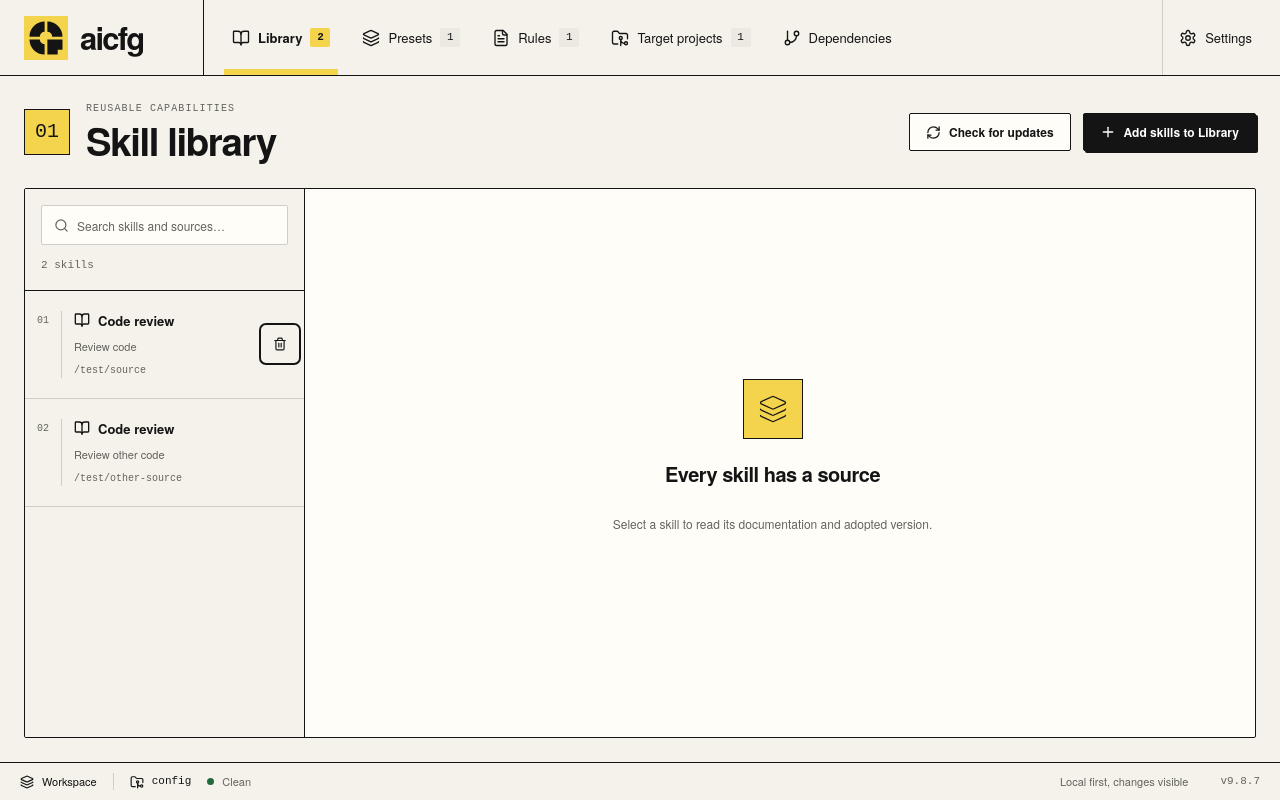
Test: Library skill confirmation › defers the request until confirmation and cancels without deleting
Click the button named "Delete Code review" at {"x": 280, "y": 344}, box [264,328,296,360]
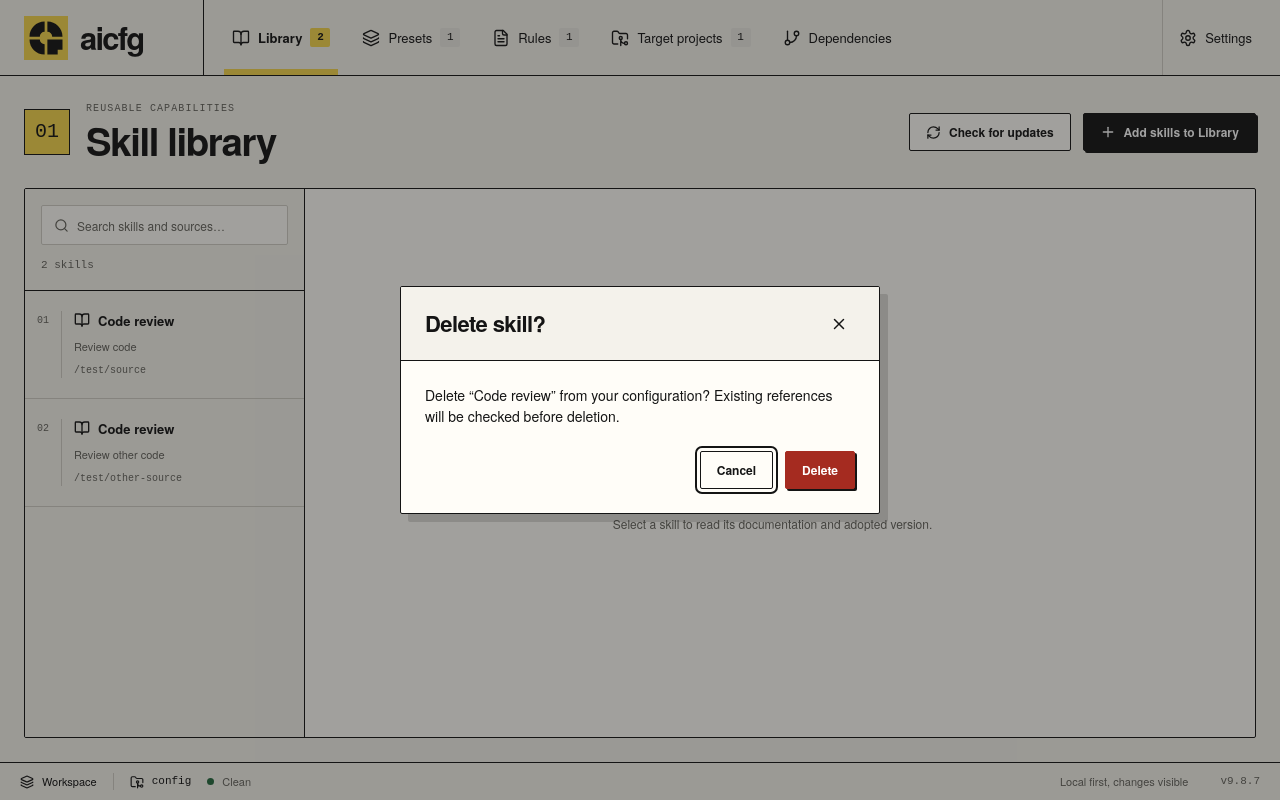
Expected: the heading "Delete skill?" is shown, [425,307,545,340]
Expected: the text "Code review" is shown, [425,385,832,426]
Click the button "Cancel" at {"x": 736, "y": 470}, box [700,451,773,489]
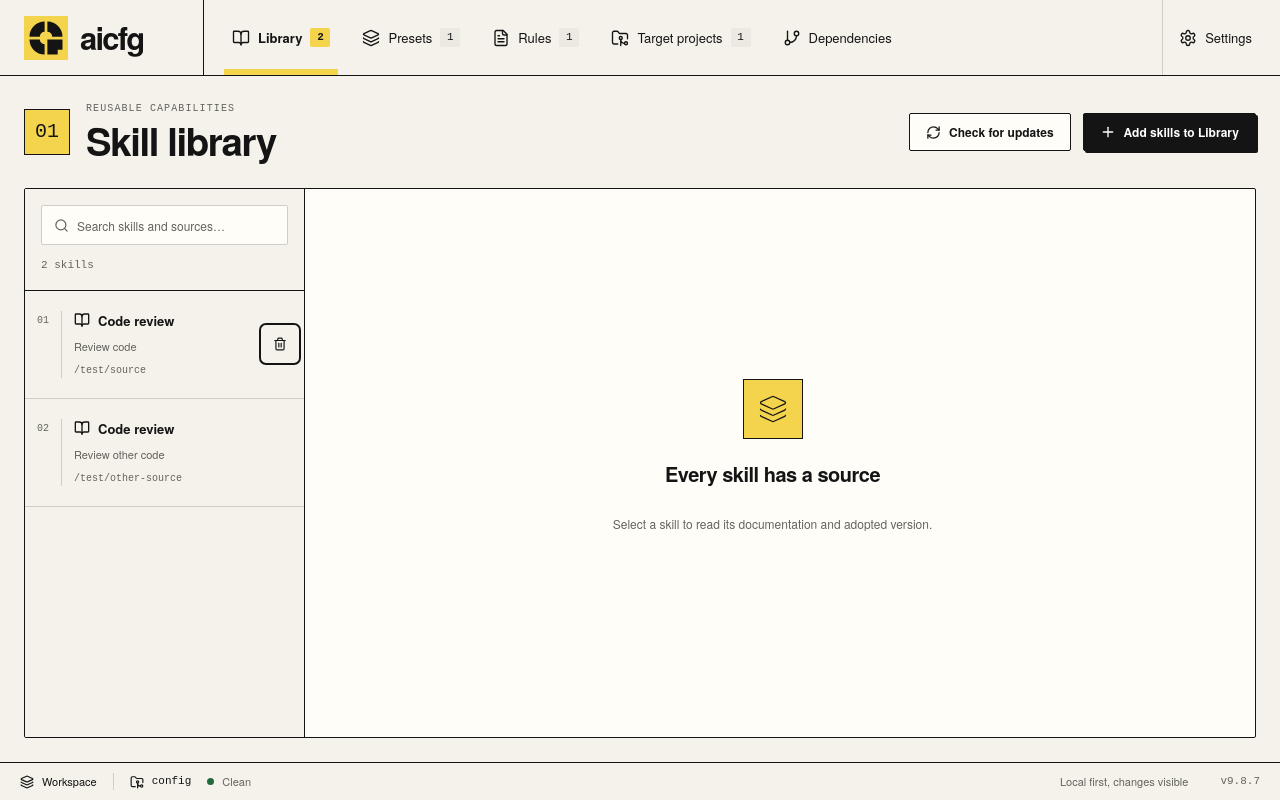
Expected: the dialog is gone
Click the button named "Delete Code review" at {"x": 280, "y": 344}, box [264,328,296,360]
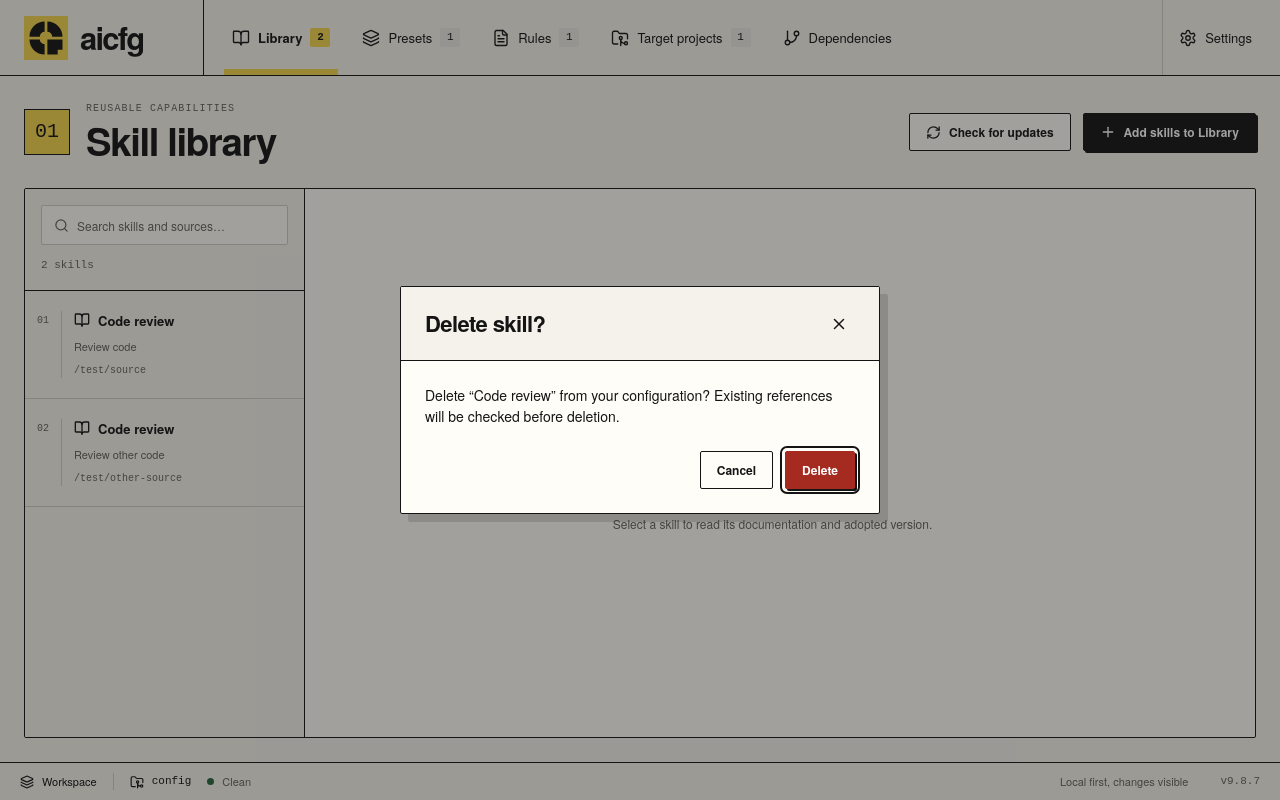
Click the button "Delete" at {"x": 820, "y": 470}, box [785,451,855,489]
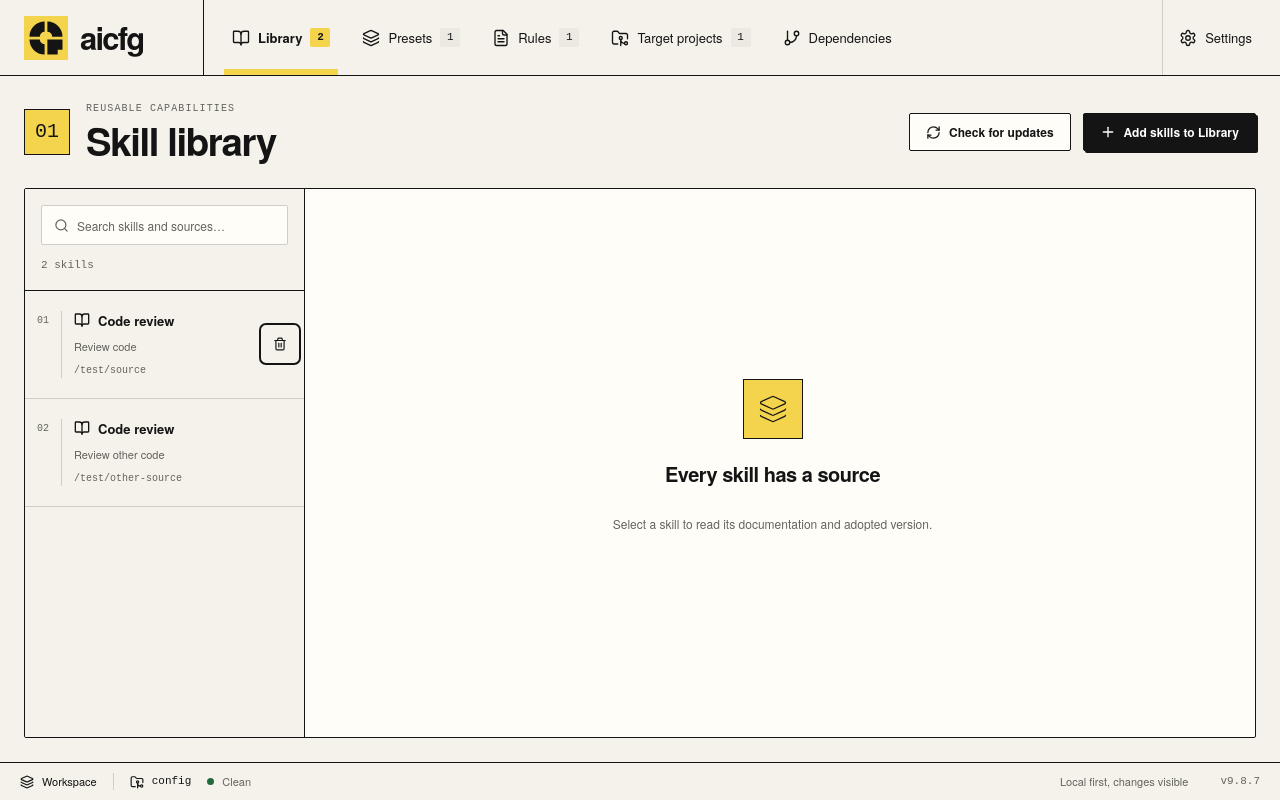
Expected: the dialog is gone
